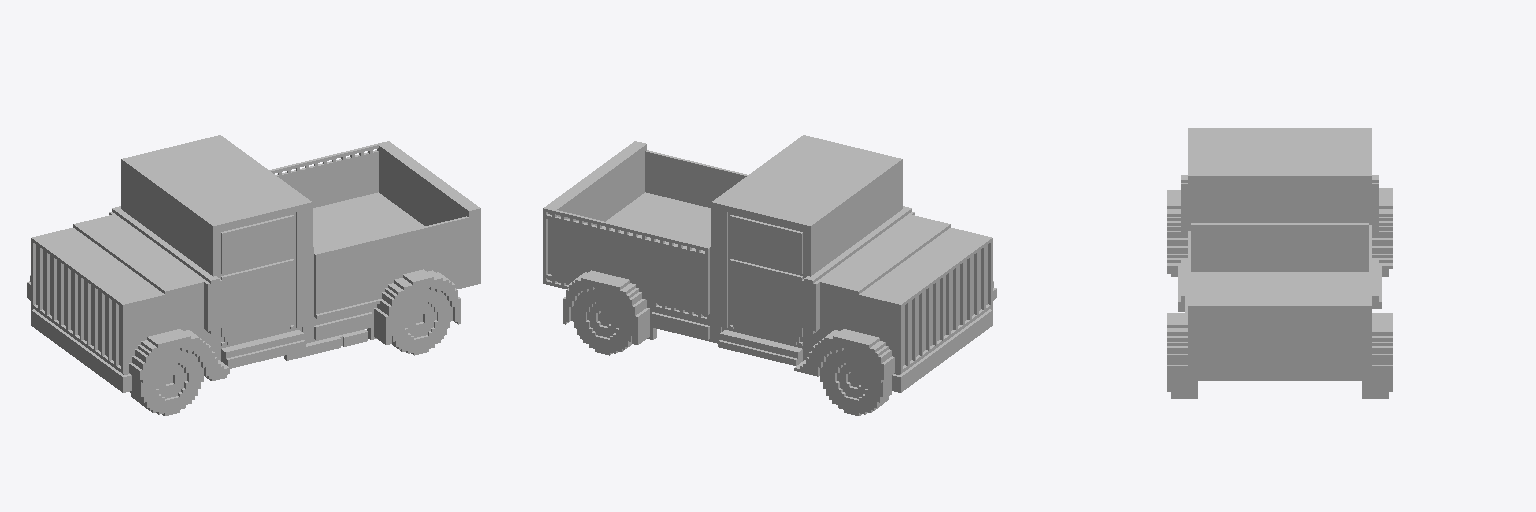
File: camihaosem lona.obj
3 views of the same model, side by side, from view 1: azimuth 30°, elevation 25°; view 2: azimuth 150°, elevation 25°; view 3: azimuth 270°, elevation 25° (orthographic).
Size of the model in its own units: 119 by 54 by 65.